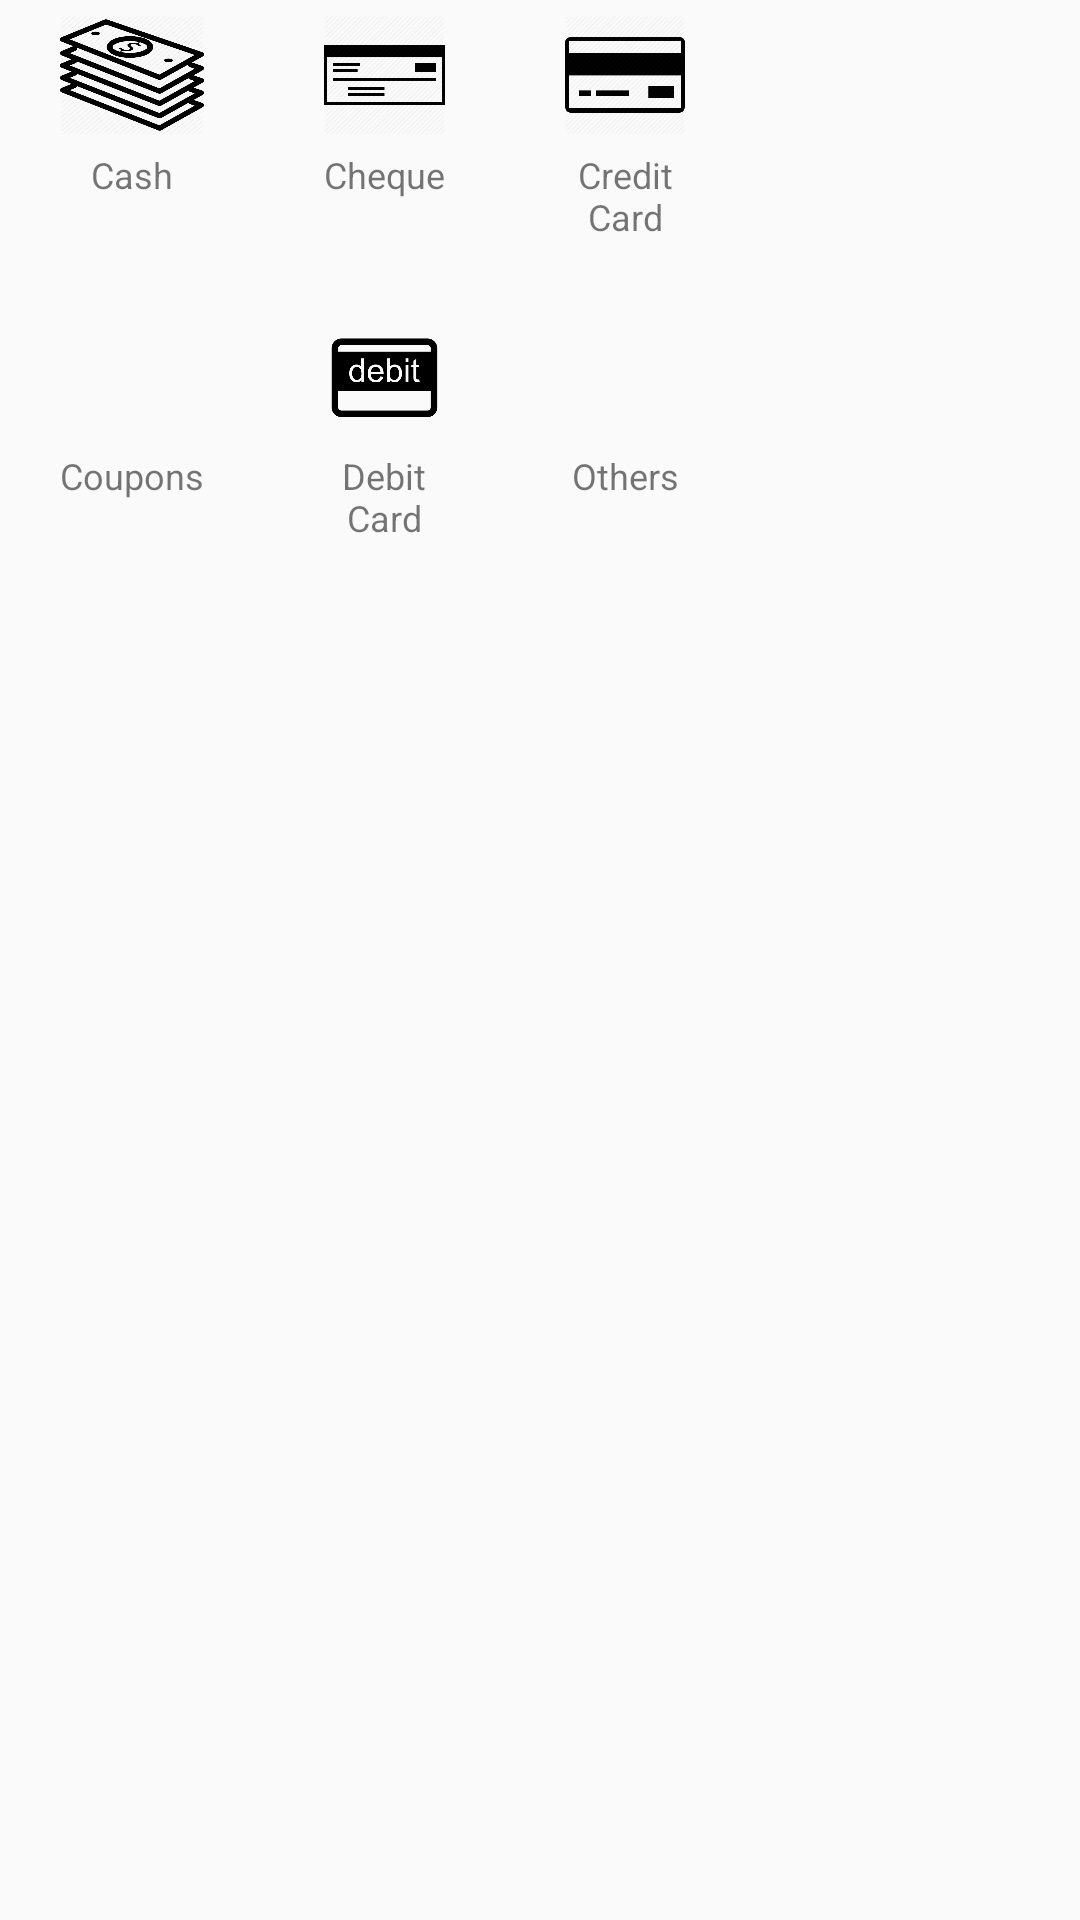

Icon click points for this 1080px x 1920px phone screenshot, format (x=x, y=y):
money order: (x=384, y=75)
